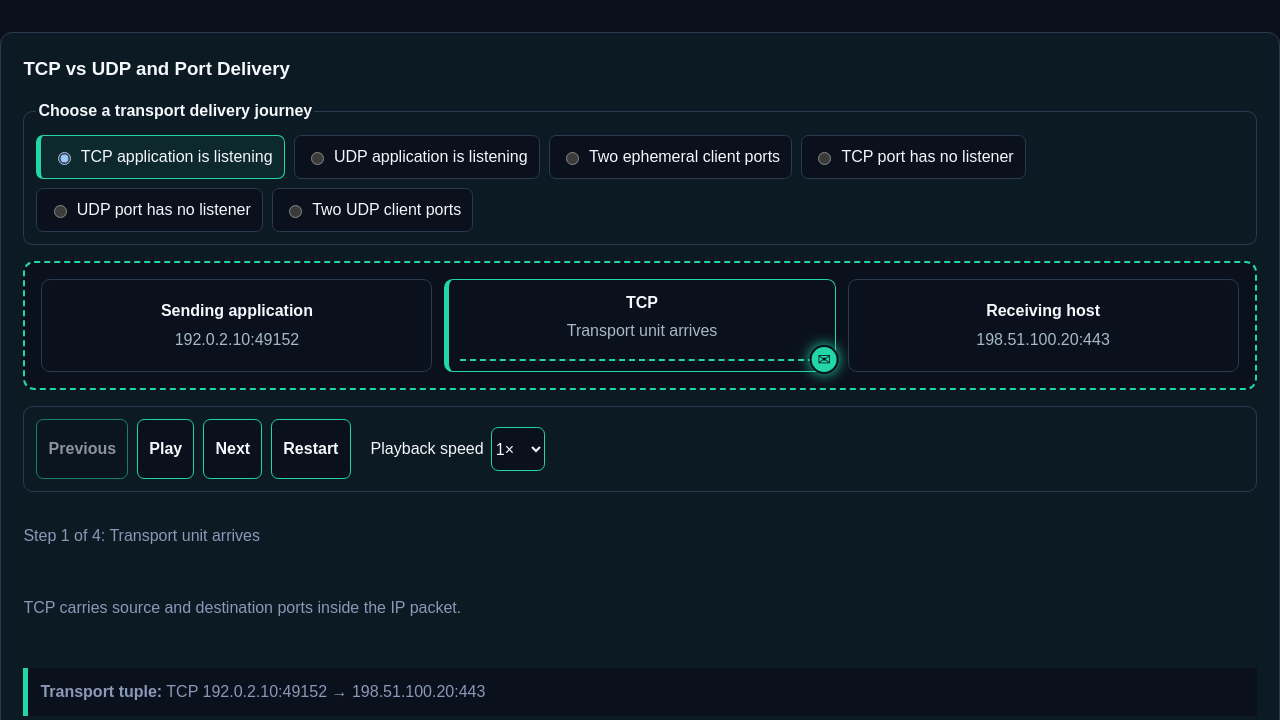
PortDeliveryPlayer › resets journeys and records only terminal progress
Click the button "Next" at [233, 449], box [203,419,262,479]
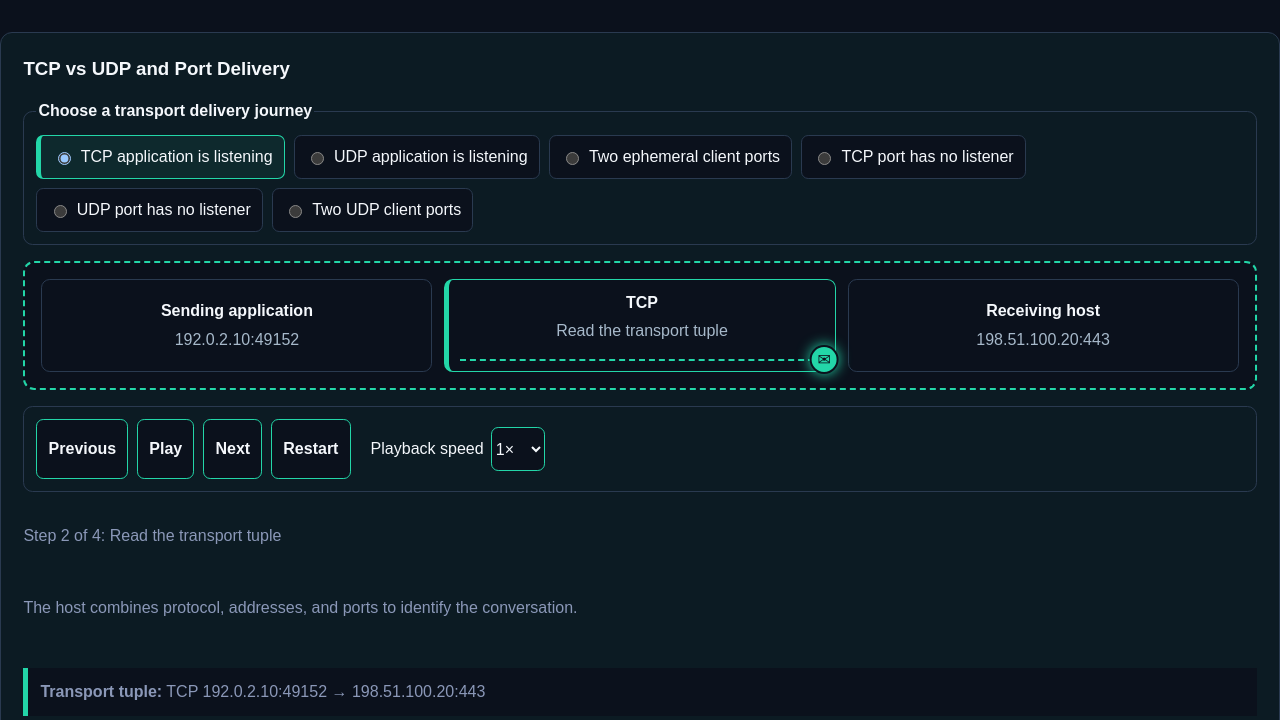
Click the button "Next" at [233, 449], box [203,419,262,479]
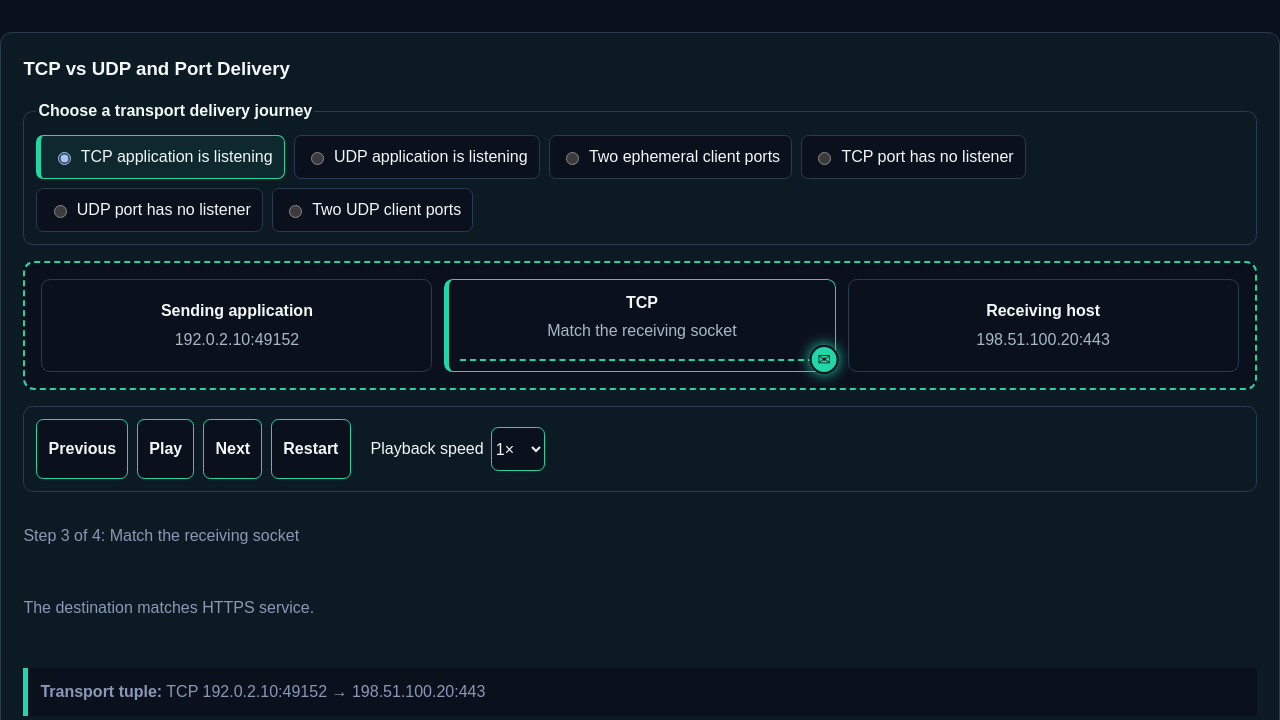
Click the button "Next" at [233, 449], box [203,419,262,479]
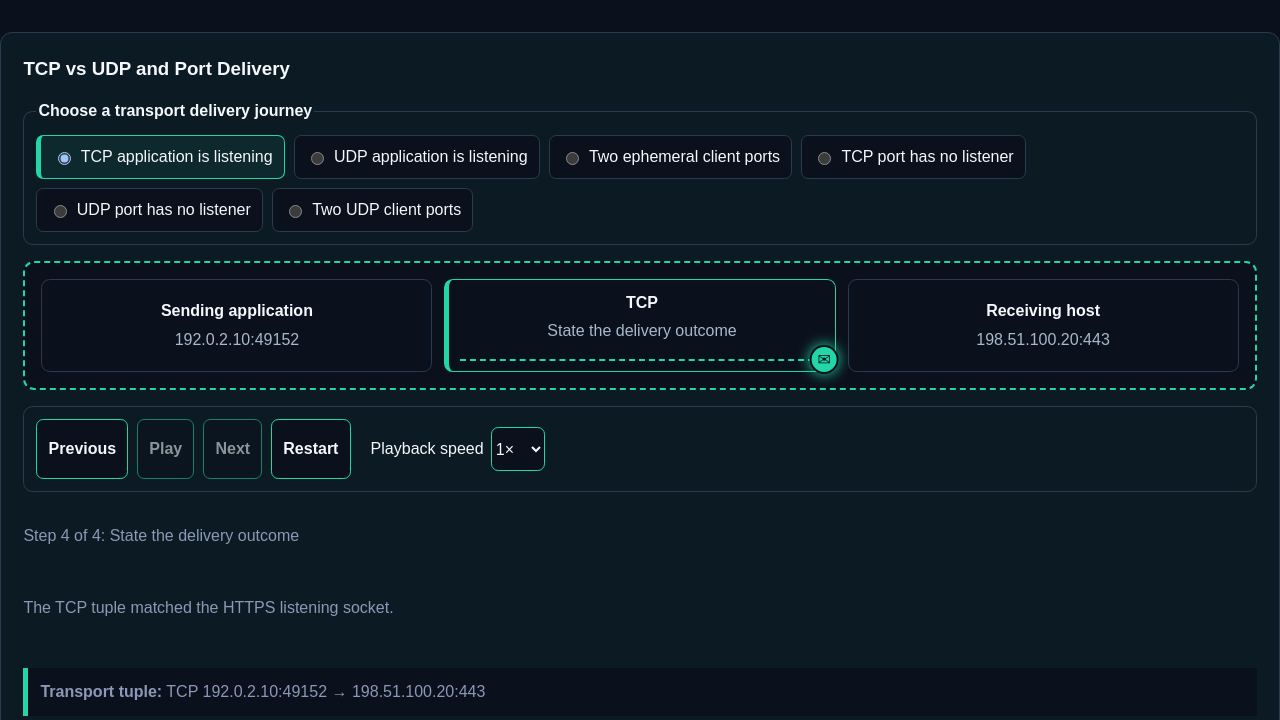
Click the button "Restart" at [311, 449], box [271,419,351,479]
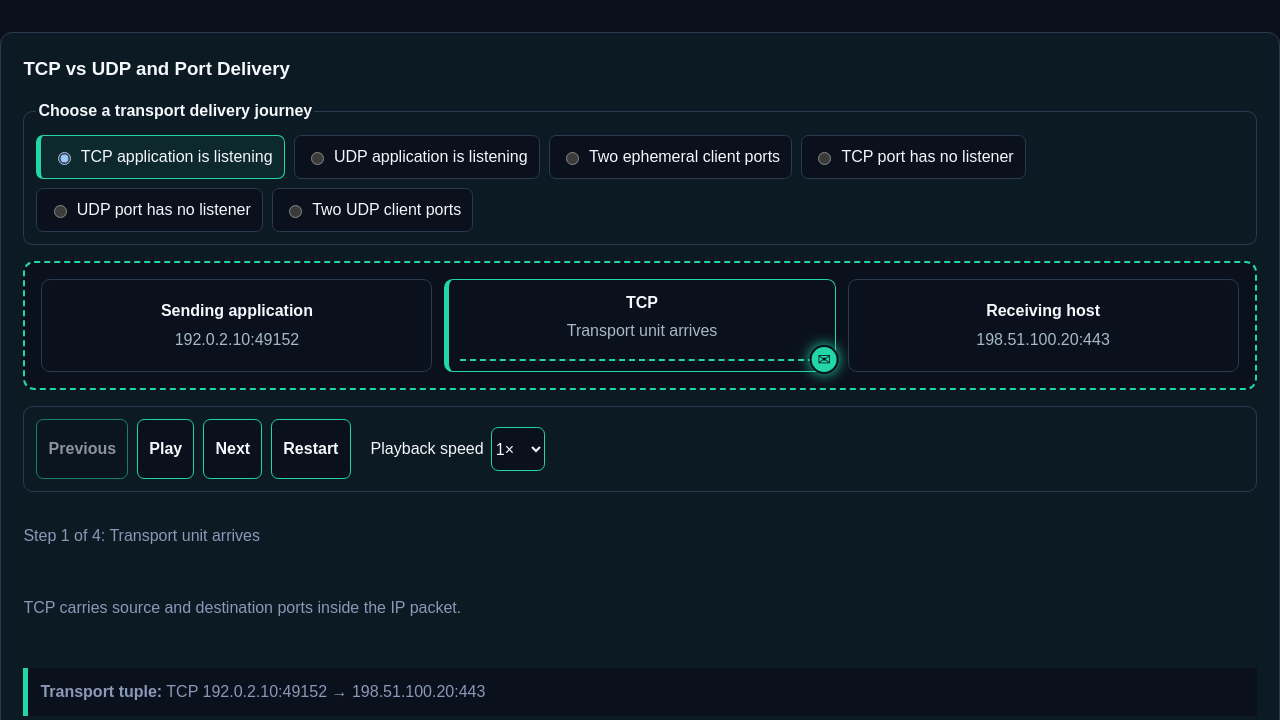
Expected: the message shows "Step 1 of 4", [23,527,260,544]
